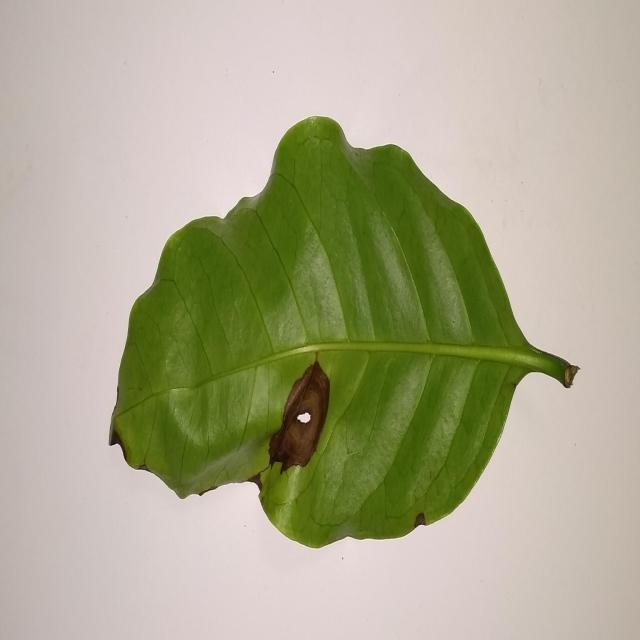Enfermedad-Antracnosis: (108, 117, 580, 551)
